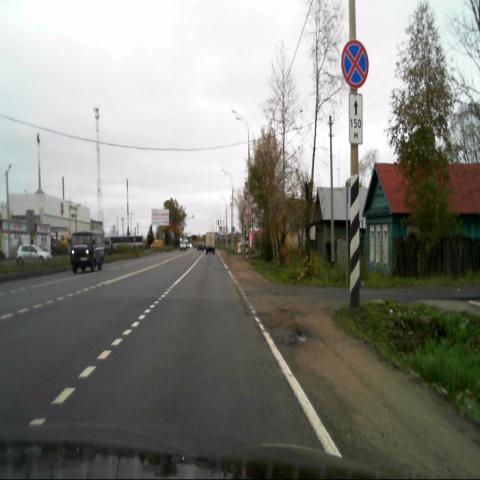8_2_2: (348, 94, 364, 143)
